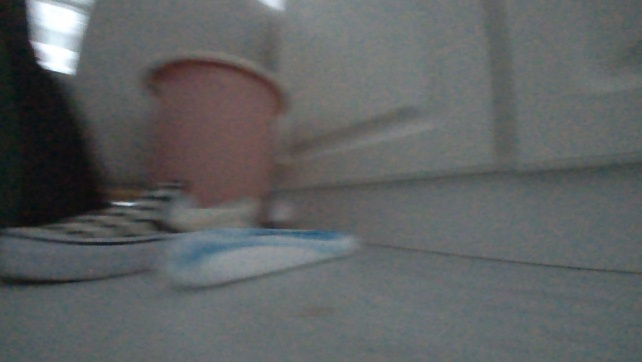cupboard1: (265, 0, 641, 280)
shoe: (0, 181, 192, 286)
